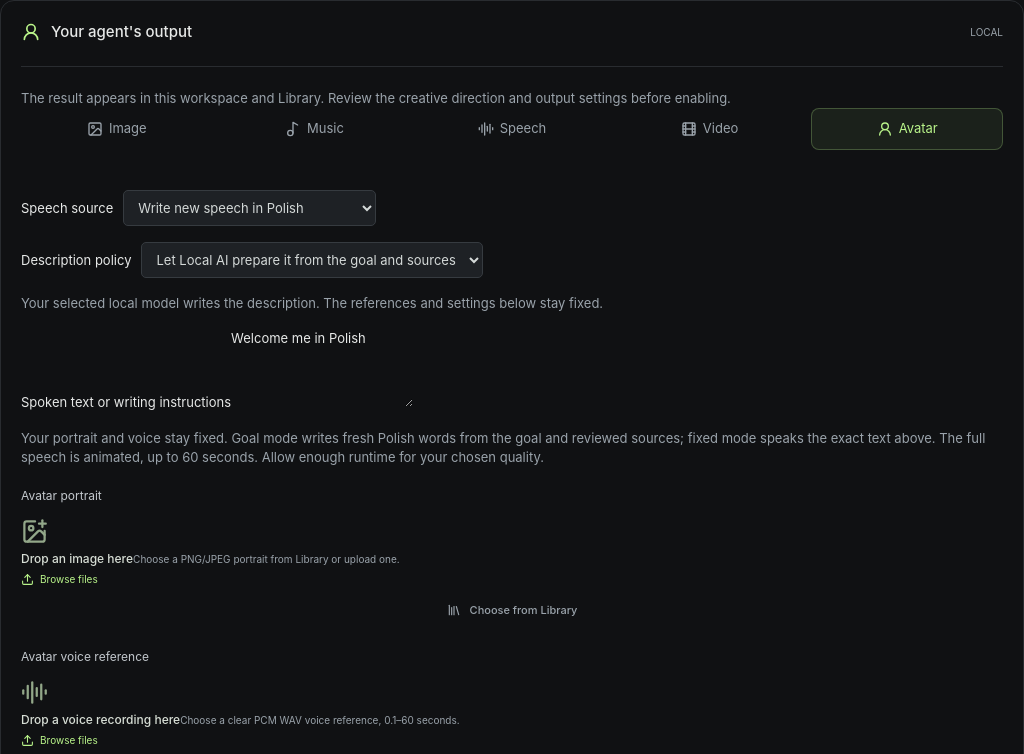
Scenario: keeps an avatar draft reviewable while awaiting sources and switches to complete recorded speech
The image size is (1024, 754).
Replace the text in the text box named "Media creative direction" with "Dzień dobry." at coordinates (322, 368), box x1=231 y1=329 x2=413 y2=407
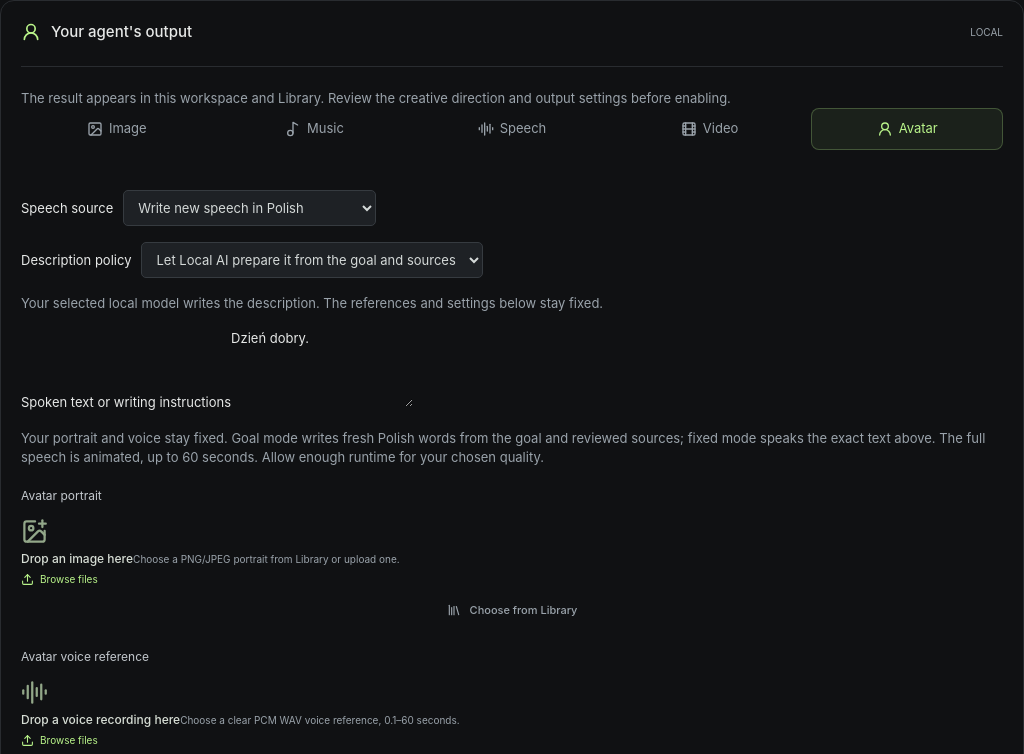
Select "Use the complete saved recording" in the dropdown named "Agent avatar speech source" at coordinates (250, 208), box x1=123 y1=190 x2=376 y2=226
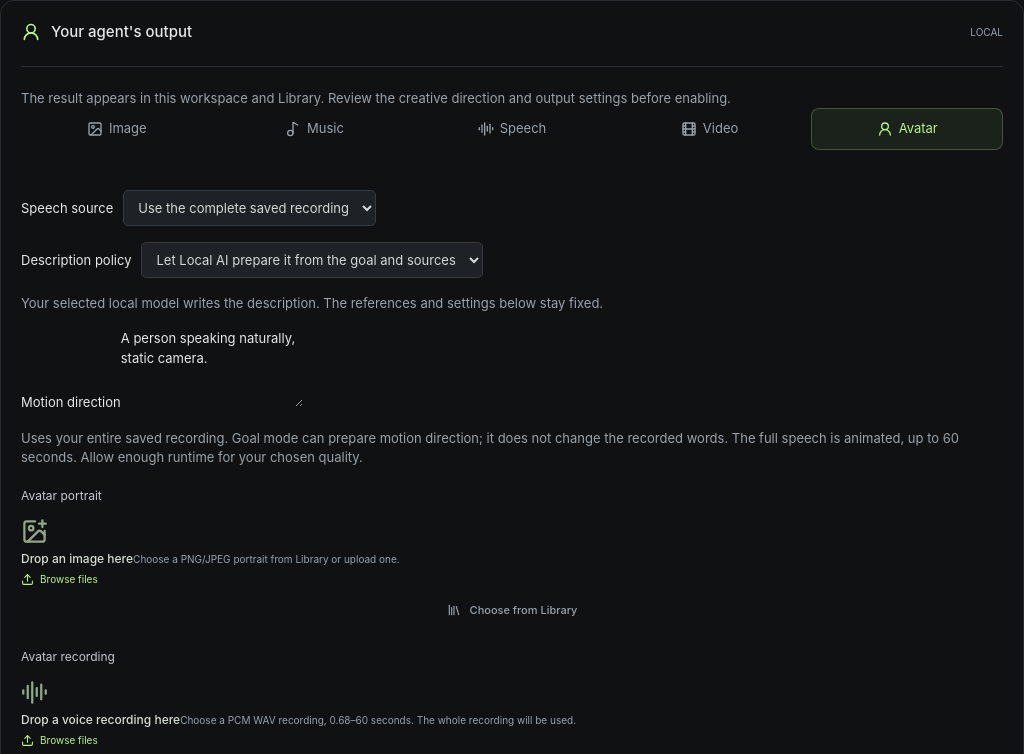
Result: the text "Uses your entire saved recording" is shown at x1=21 y1=430 x2=728 y2=446
